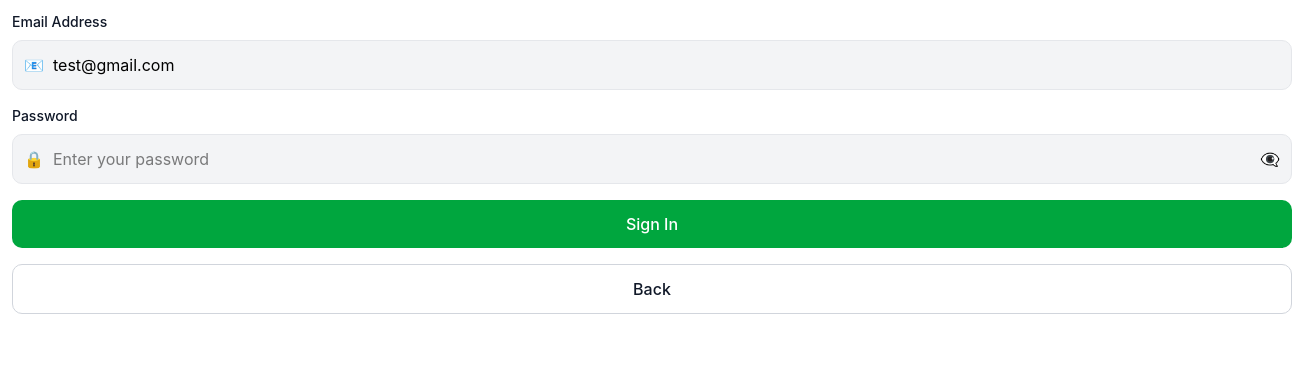
Test: LoginForm › shows validation error when submitting empty form
// Clear the default email value
Clear the field labelled "Email Address" at (652,65), box x1=12 y1=40 x2=1292 y2=90
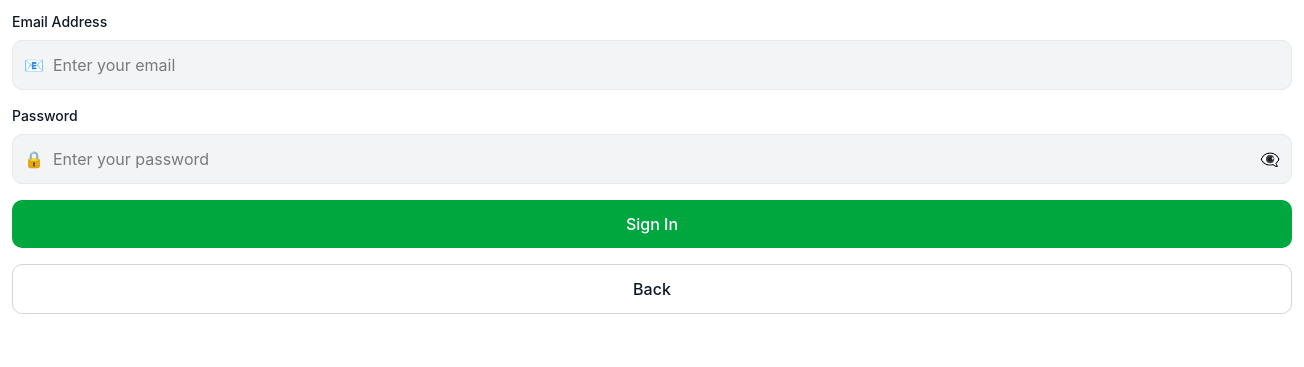
Click the button "Sign In" at (652,224), box x1=12 y1=200 x2=1292 y2=248
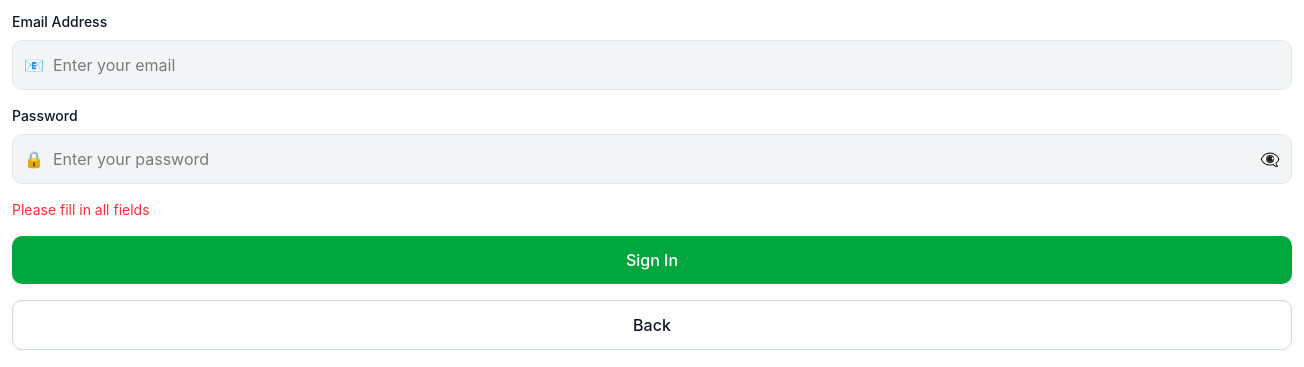
Result: the text "Please fill in all fields" is shown at x1=12 y1=201 x2=150 y2=218
